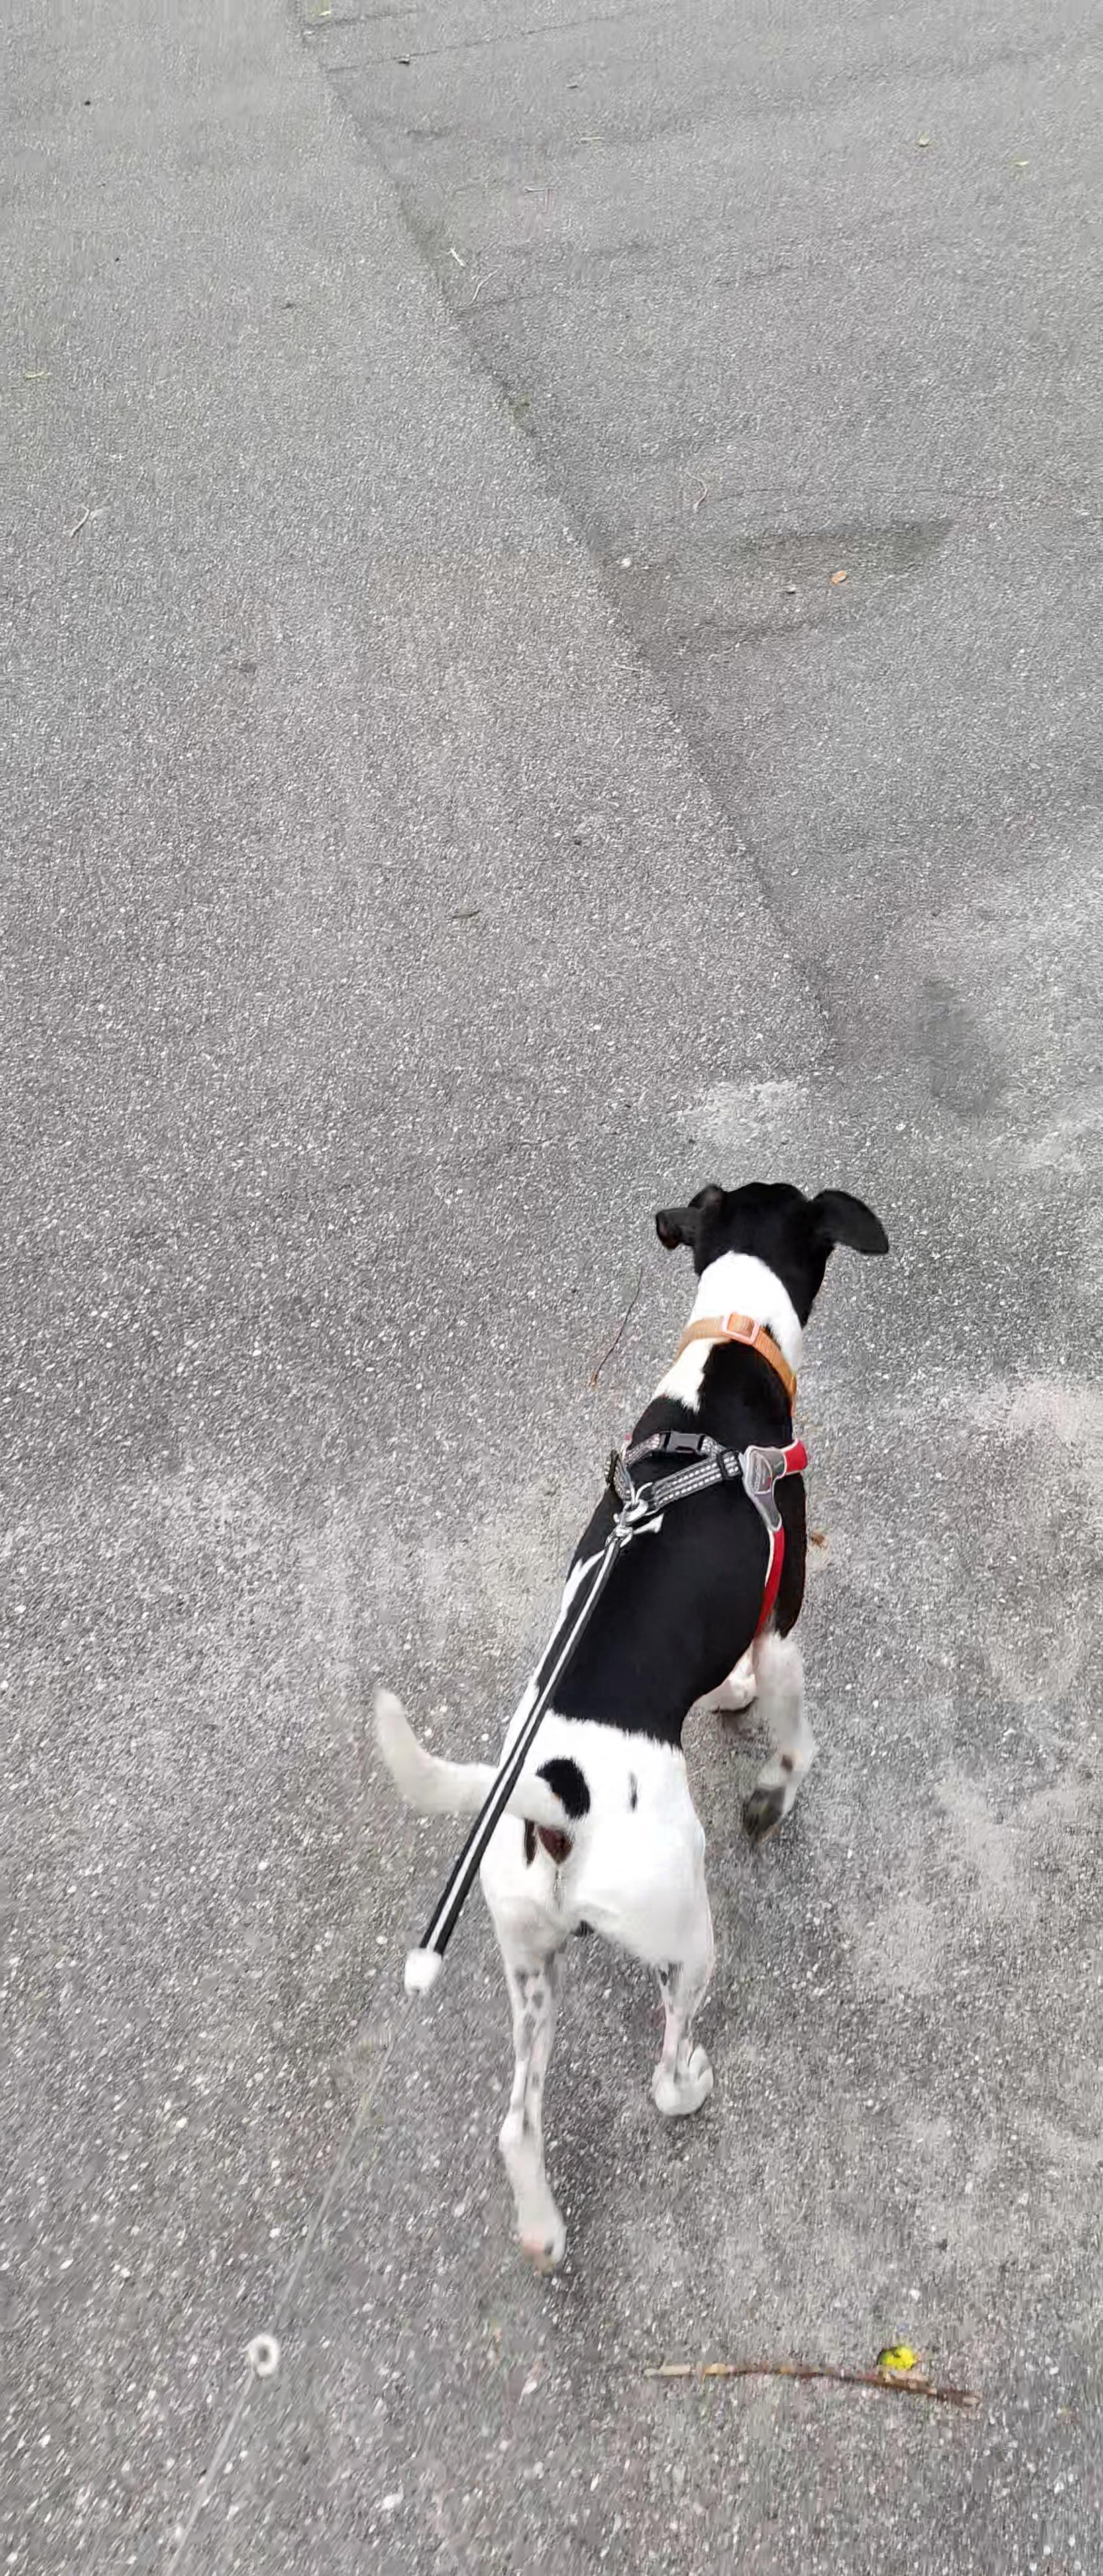Dog: (348, 1176, 901, 2269)
